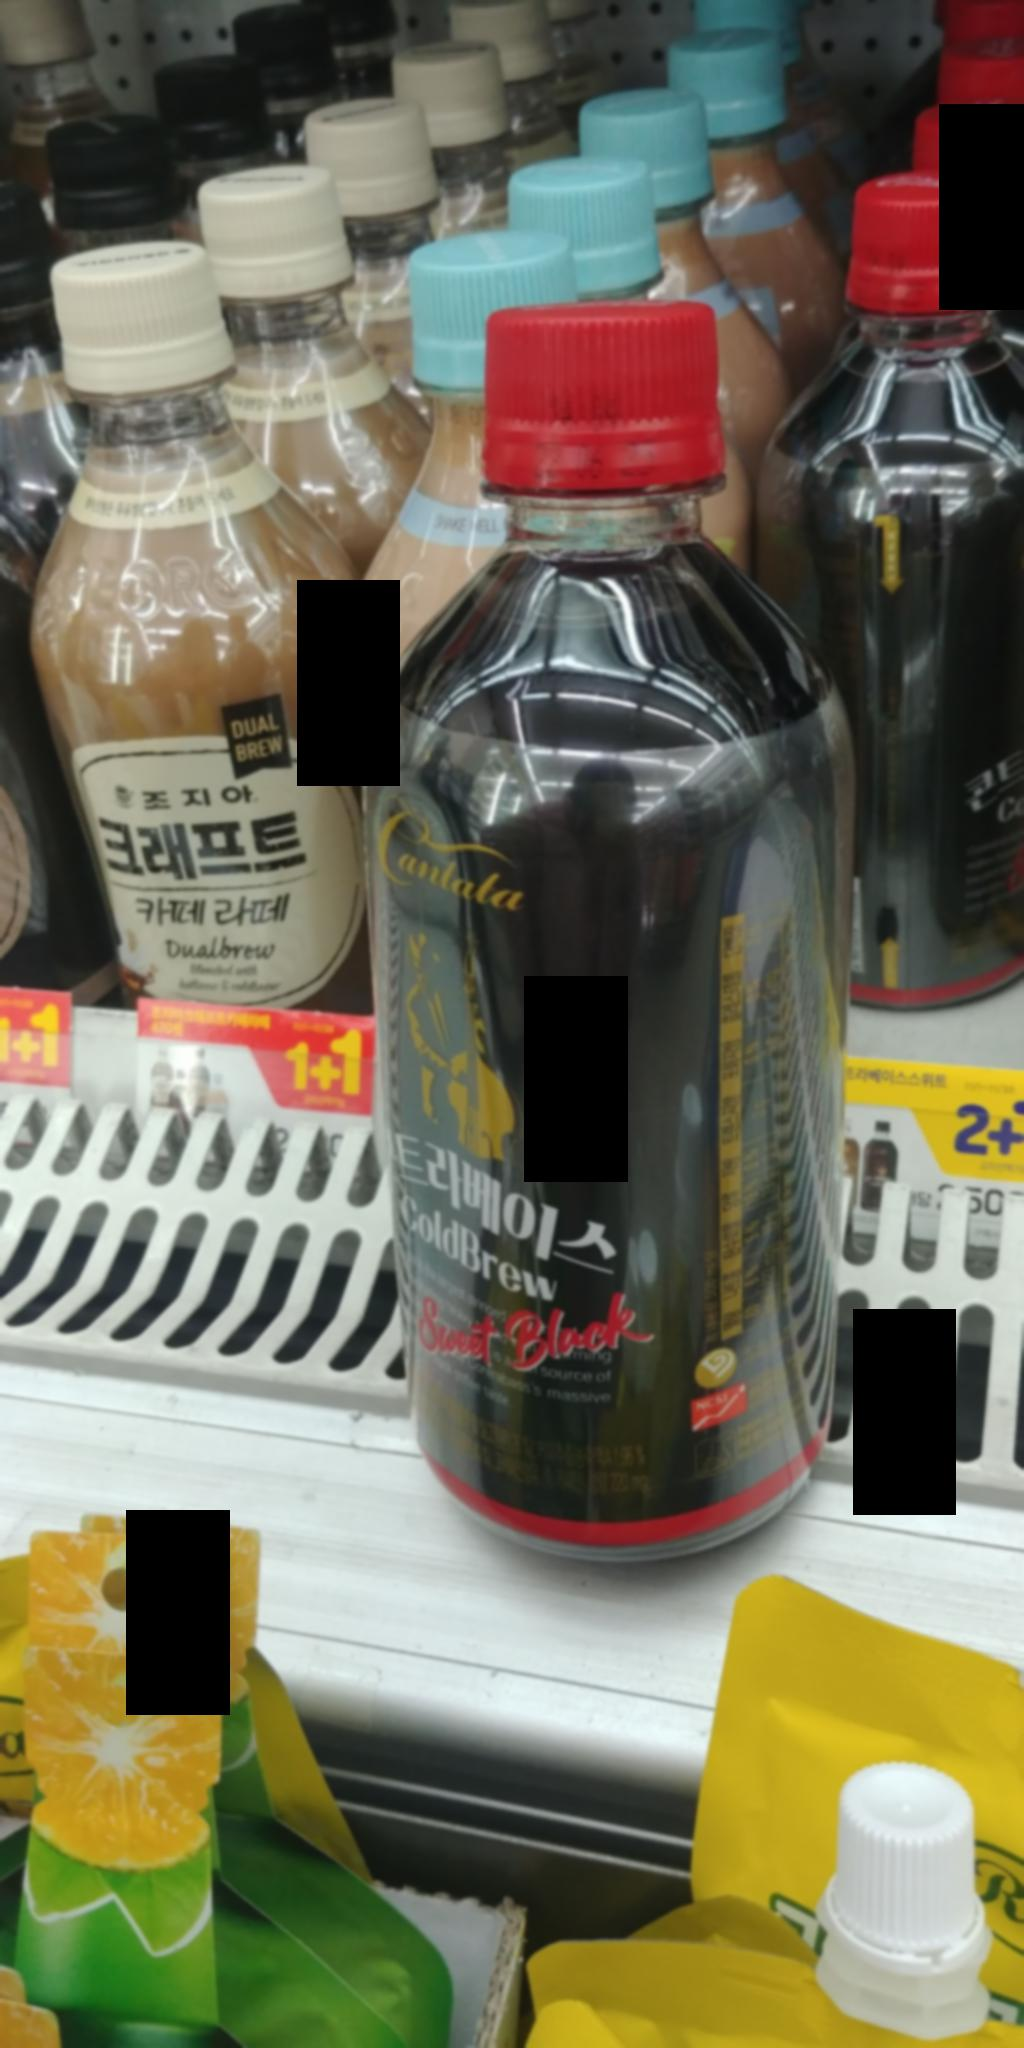contrabass_sweetblack: (342, 283, 875, 1576)
